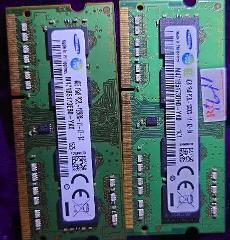electronic: (4, 0, 229, 240)
